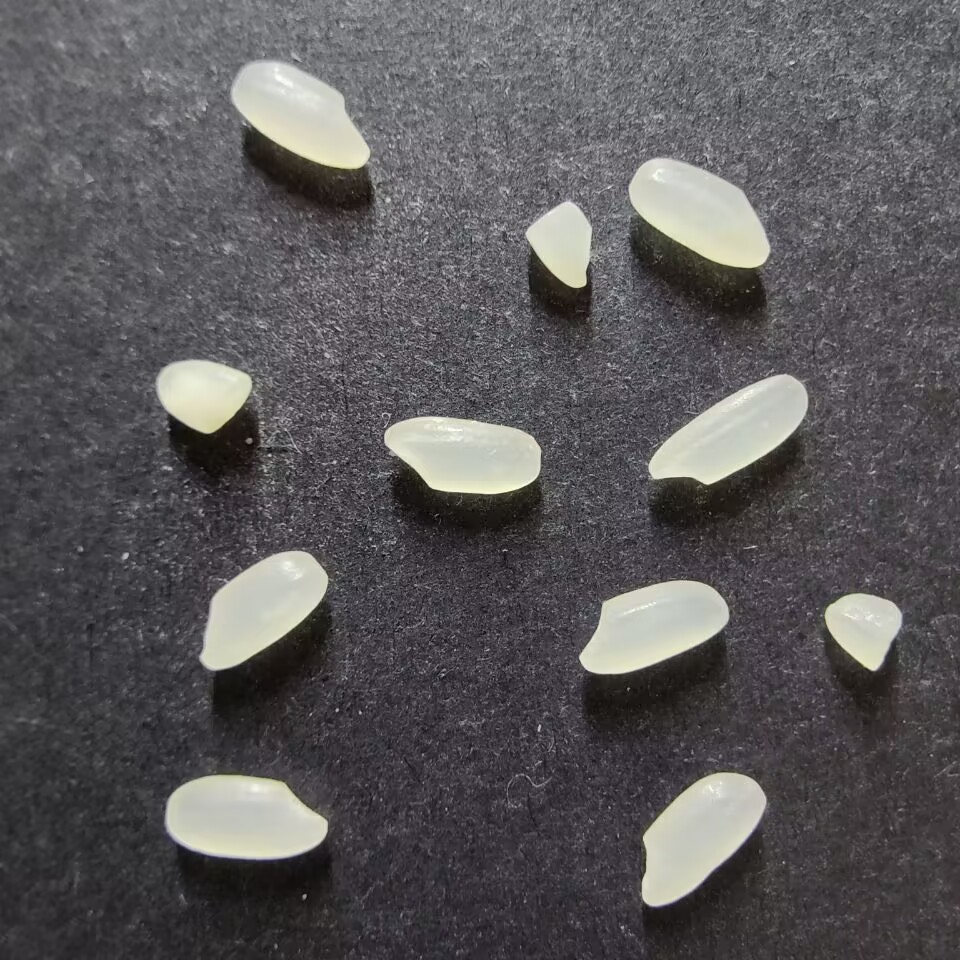broken: (155, 359, 252, 435), (824, 592, 903, 672), (524, 198, 593, 288)
rice: (647, 373, 809, 485), (640, 771, 767, 908), (199, 548, 329, 671), (628, 157, 771, 268), (230, 59, 369, 169), (578, 579, 728, 675), (164, 773, 328, 860), (382, 415, 542, 495)
